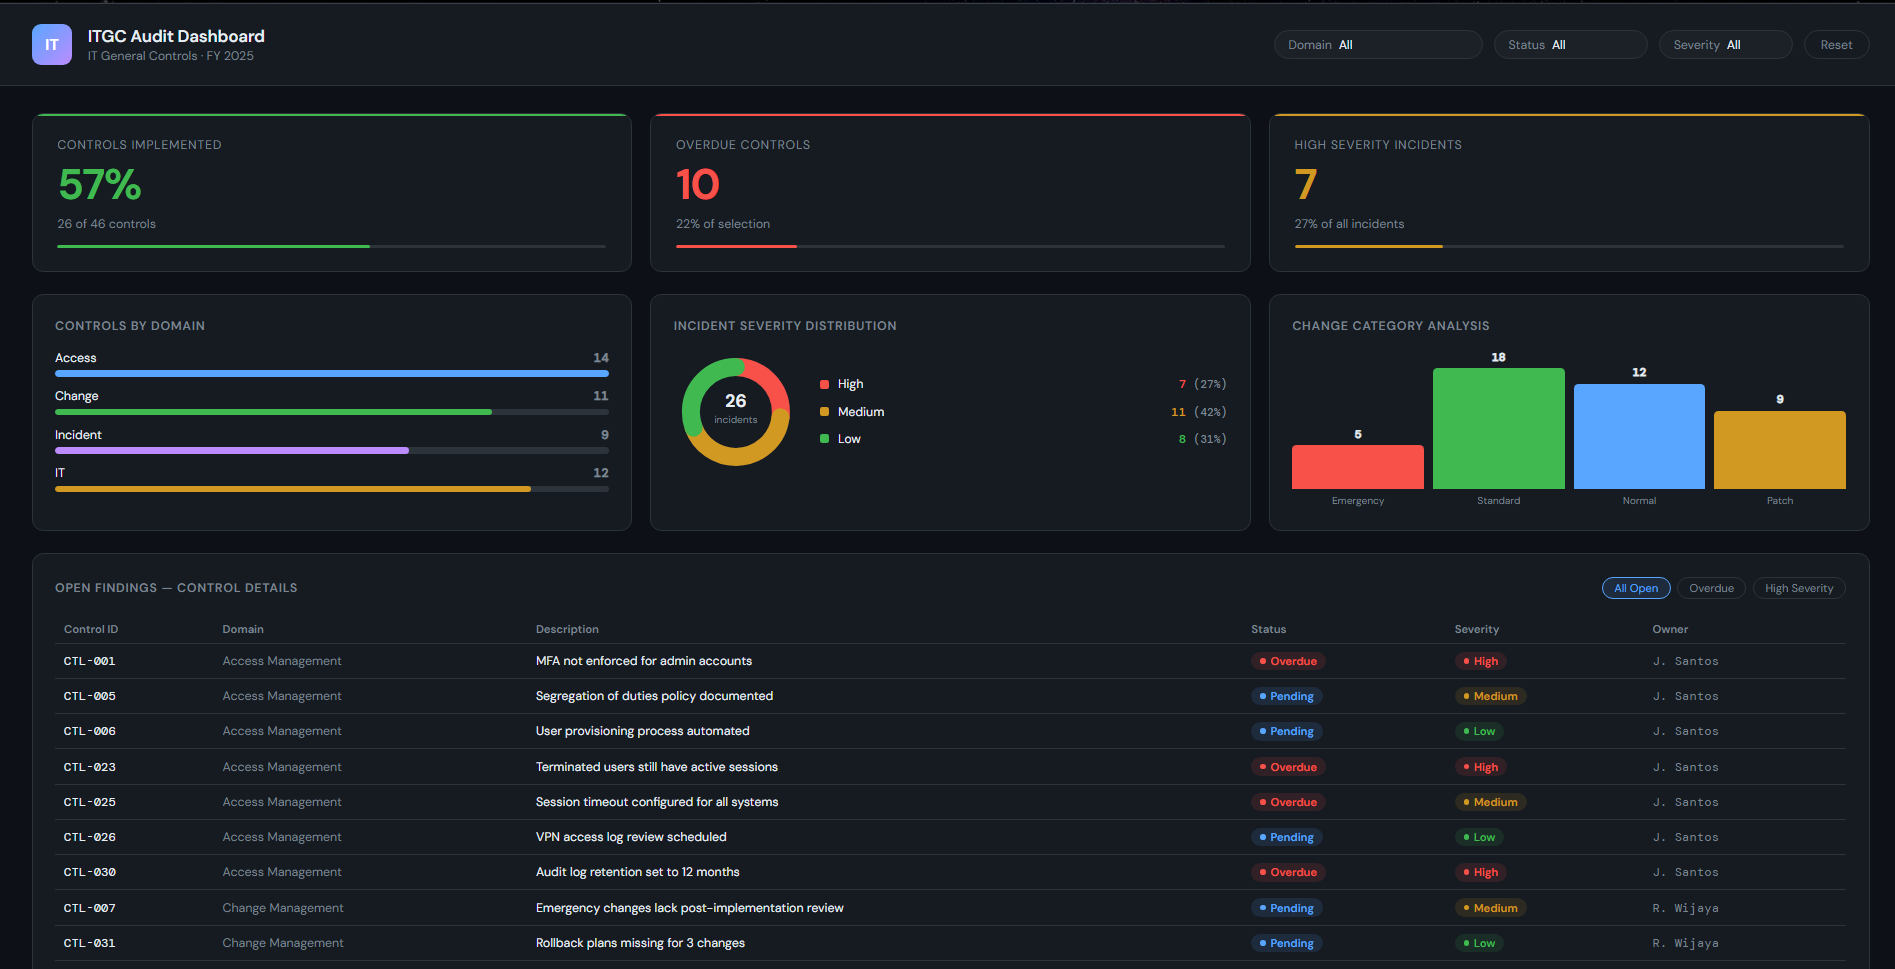

The dashboard page shown, as its layout file describes it:
{"tool":"powerbi","page":{"name":"Page 1","canvas":[1280,720],"ordinal":0},"visuals":[{"type":"textbox","box":[0,0,1280,64],"z":1000},{"type":"cardVisual","fields":{"Data":["ITGCControls.ITGC_Implemented_Pct"]},"box":[0,64,400,208],"z":2000},{"type":"cardVisual","fields":{"Data":["ITGCControls.Overdue_Controls"]},"box":[400,64,480,208],"z":3000},{"type":"cardVisual","fields":{"Data":["ITGCControls.High Incidents"]},"box":[880,64,400,208],"z":4000},{"type":"barChart","title":"Access User by Department","fields":{"Y":["CountNonNull(ITGCControls.ControlID)"],"Category":["ITGCControls.Domain"]},"box":[0,272,480,256],"z":5000},{"type":"donutChart","title":"Incident Severity Distribution","fields":{"Category":["Incidents.Severity"],"Y":["CountNonNull(Incidents.IncidentID)"]},"box":[496,288,352,432],"z":6000},{"type":"tableEx","fields":{"Values":["UserAccess.Department","CountNonNull(UserAccess.Role)","CountNonNull(UserAccess.UserID)"]},"box":[0,528,480,192],"z":6001},{"type":"columnChart","title":"Category Analysis by ChangeID","fields":{"Category":["ChangeManagement.Category"],"Y":["CountNonNull(ChangeManagement.ChangeID)"]},"box":[848,288,432,432],"z":6002}]}

Visuals, with their boxes in screenshot pixels (x1, y1, x2, y2):
textbox: 69:25:1705:106
cardVisual - ITGCControls.ITGC_Implemented_Pct: 69:106:580:372
cardVisual - ITGCControls.Overdue_Controls: 580:106:1194:372
cardVisual - ITGCControls.High Incidents: 1194:106:1705:372
"Access User by Department" barChart: 69:372:682:699
"Incident Severity Distribution" donutChart: 703:393:1153:945
tableEx - UserAccess.Department x CountNonNull(UserAccess.Role): 69:699:682:945
"Category Analysis by ChangeID" columnChart: 1153:393:1705:945
